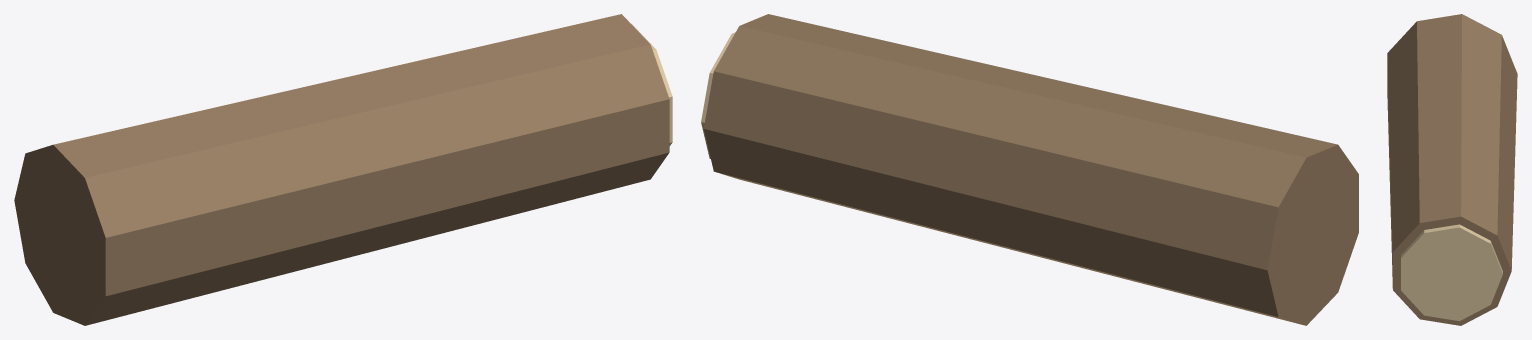
The model's file is log.glb.
3 renders of one model, left to right at view 1: azimuth 30°, elevation 25°; view 2: azimuth 150°, elevation 25°; view 3: azimuth 270°, elevation 25°, orthographic. The views are drawn at different scales.
Parts seen in each view (by area): view 1: log; view 2: log; view 3: log.
Boxes of the visible parts, bbox=[...] form: log: bbox=[14, 14, 672, 325]; log: bbox=[701, 14, 1358, 325]; log: bbox=[1387, 14, 1517, 325].
Bounding box in the file's own units: 3.25 × 0.906 × 0.8923.
